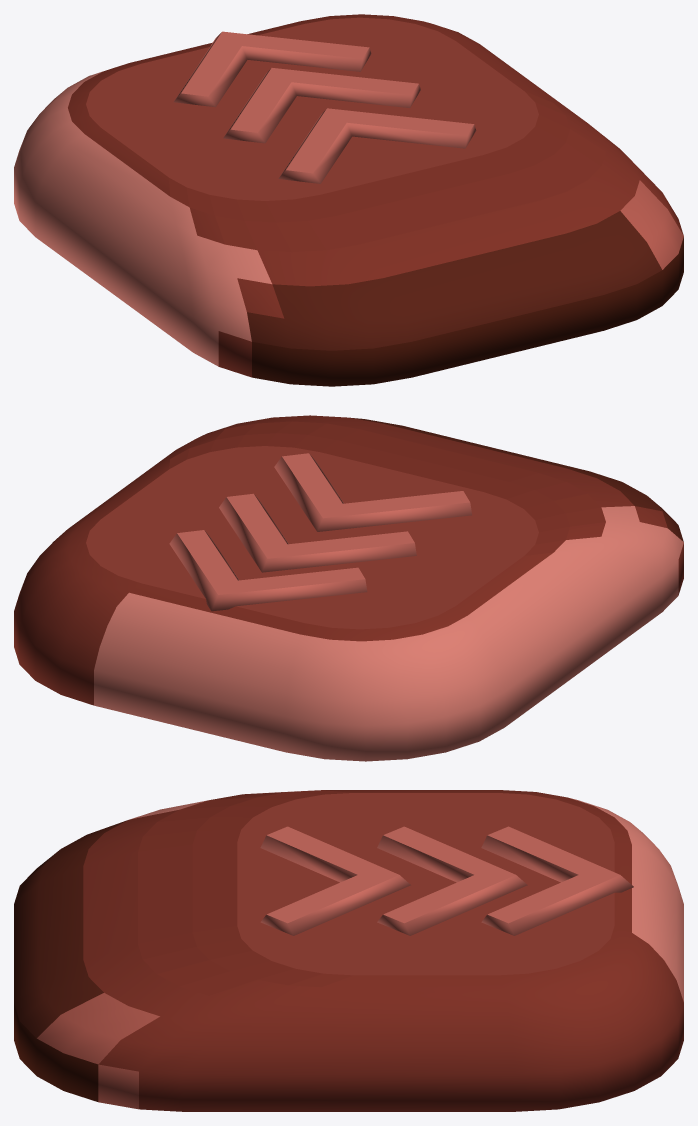
File: newshm-153.glb
The picture shows the model from 3 angles, top to bottom: view 1: azimuth 30°, elevation 25°; view 2: azimuth 150°, elevation 25°; view 3: azimuth 270°, elevation 25°; orthographic projection. The views are drawn at different scales.
Parts seen in each view (by area): view 1: newshm-153; view 2: newshm-153; view 3: newshm-153.
Part boxes in pixels (x1,y1,x2,y2): newshm-153: [14, 14, 683, 386]; newshm-153: [14, 415, 683, 761]; newshm-153: [14, 790, 683, 1111].
Bounding box in the file's own units: 1.92 × 0.435 × 2.25.
